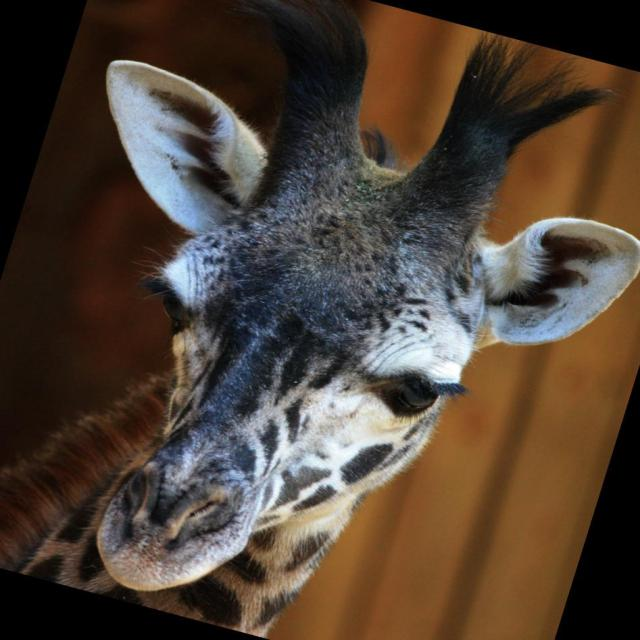Giraffe: (43, 36, 640, 597)
